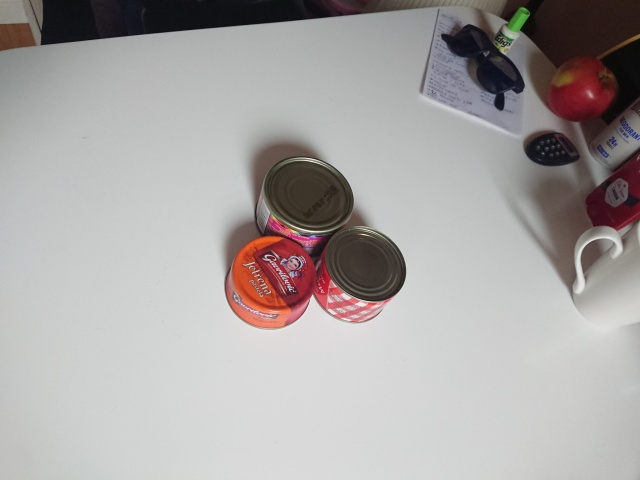Gavrilovic Pork Liver Pate 100g: (223, 233, 318, 333)
Giana Tuna Salad Mexico 185g: (251, 153, 357, 259)
Podravka Luncheon Meat 150g: (309, 224, 408, 325)
